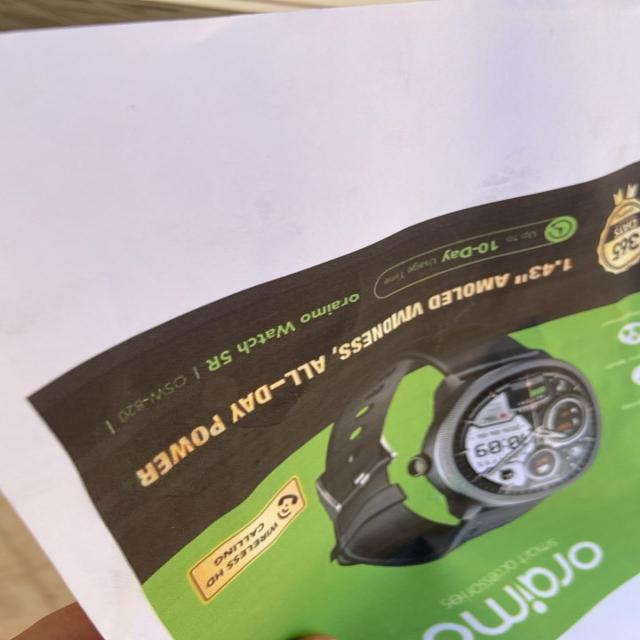Oraimo Watch 5R OSW-820: (89, 287, 366, 436)
